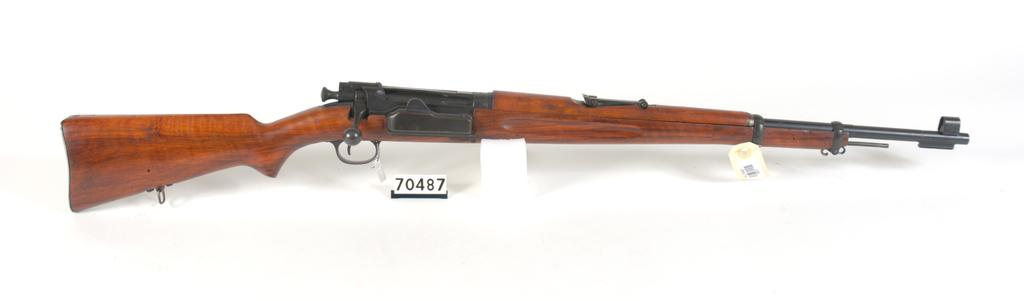Rifle: (65, 82, 965, 208)
